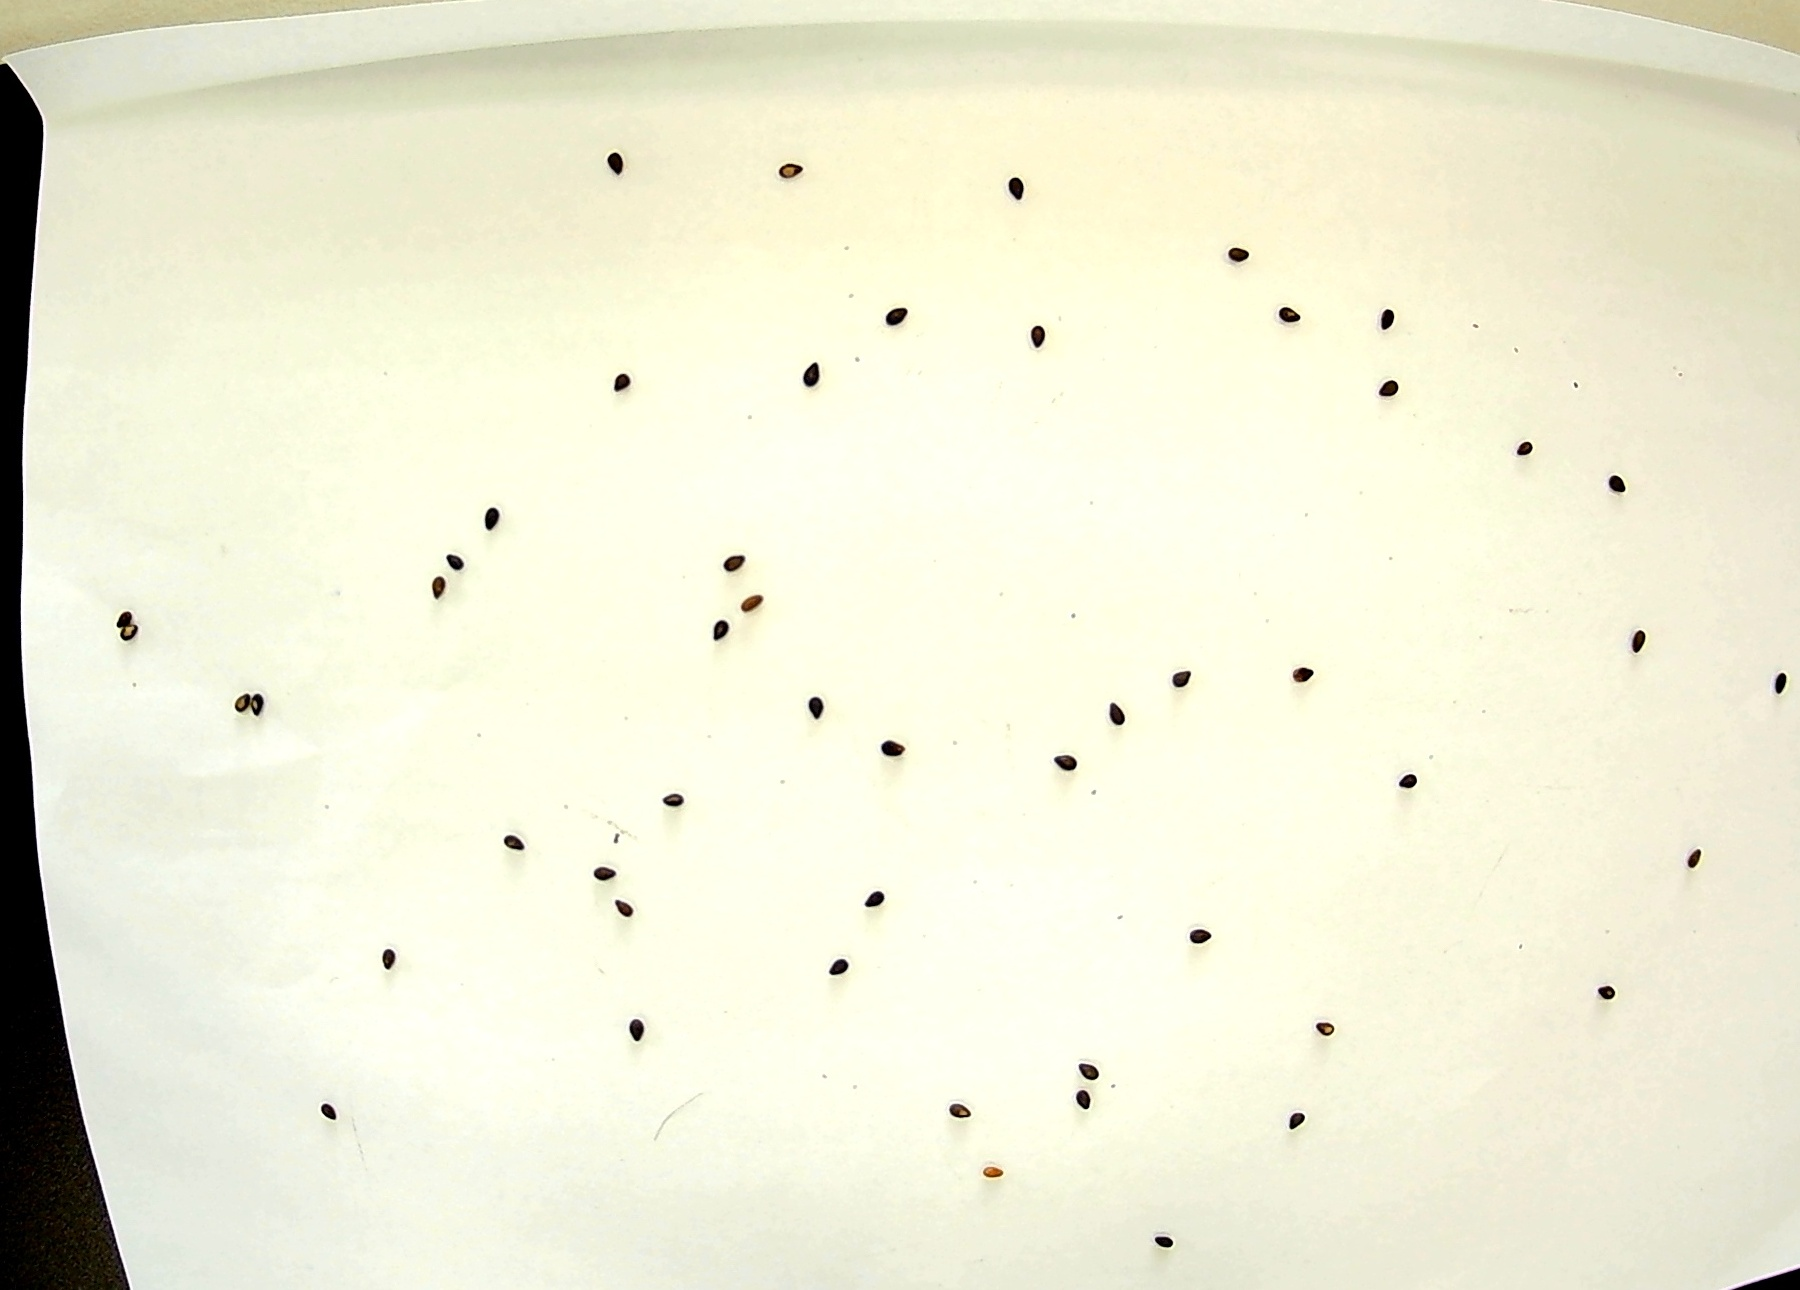sesami: (491, 826, 543, 861), (1285, 653, 1331, 692), (733, 584, 777, 623), (99, 600, 155, 631), (1599, 461, 1637, 504), (714, 546, 753, 584), (973, 1156, 1014, 1191), (938, 1089, 981, 1122), (424, 564, 458, 607), (618, 1018, 654, 1057), (606, 891, 640, 930), (1097, 692, 1132, 730), (653, 780, 689, 815), (1176, 924, 1214, 956), (366, 941, 403, 973), (820, 951, 862, 979), (773, 158, 812, 187), (1041, 748, 1081, 776), (802, 680, 830, 720), (804, 360, 834, 396), (1031, 306, 1053, 355), (473, 501, 507, 533), (1314, 1014, 1345, 1048), (705, 611, 740, 642), (1374, 299, 1407, 331), (610, 369, 642, 401), (1284, 1100, 1314, 1134), (440, 542, 469, 577), (1366, 376, 1402, 403), (1623, 616, 1649, 653), (1000, 169, 1026, 208), (1592, 972, 1620, 1007), (1069, 1058, 1105, 1085), (1676, 845, 1704, 878), (585, 861, 620, 888), (878, 737, 914, 761), (1275, 300, 1305, 329), (1076, 1083, 1104, 1114), (880, 299, 911, 327), (1511, 436, 1538, 468), (1164, 669, 1196, 695), (1227, 237, 1253, 268), (105, 627, 149, 645), (314, 1097, 346, 1122), (1147, 1227, 1180, 1251), (251, 687, 273, 720), (1393, 766, 1419, 793), (860, 882, 885, 907), (1769, 665, 1792, 692), (232, 690, 247, 723)
